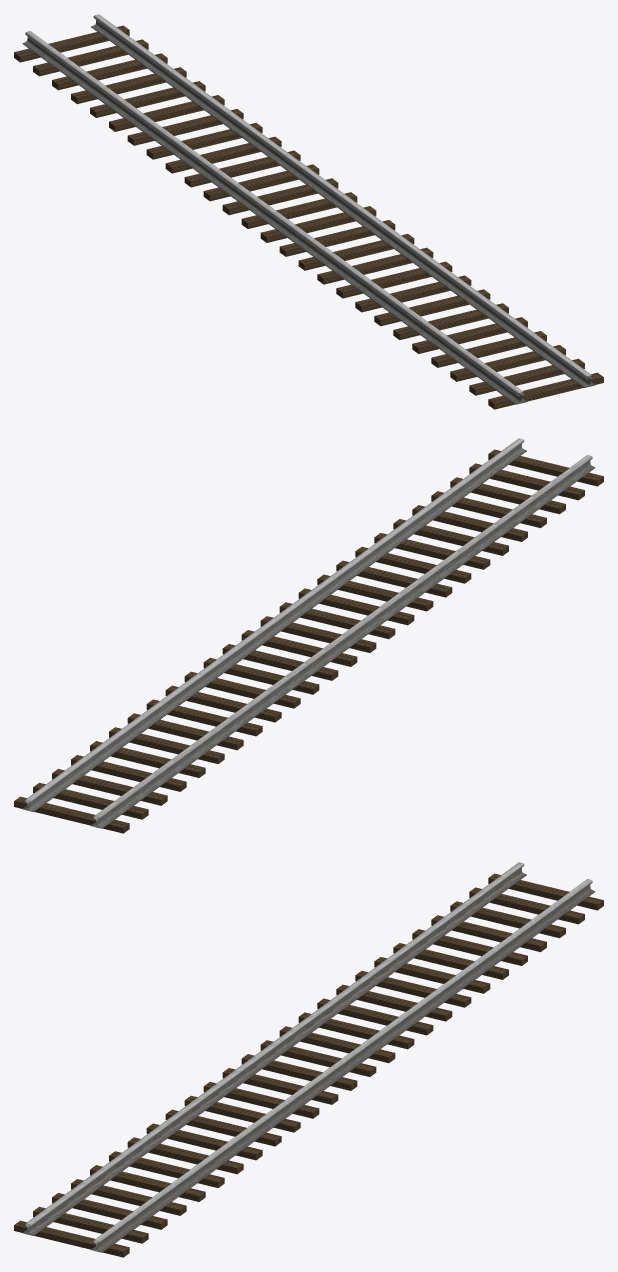
The model's file is smallstraighttextured.obj.
3 views of the same model, one above another, from view 1: azimuth 30°, elevation 25°; view 2: azimuth 150°, elevation 25°; view 3: azimuth 330°, elevation 25° (orthographic).
Visible parts, largest first — view 1: TrackPiece_Cube.001; view 2: TrackPiece_Cube.001; view 3: TrackPiece_Cube.001.
Boxes of the visible parts, x1,y1,x2,y2 form: TrackPiece_Cube.001: [14, 14, 603, 409]; TrackPiece_Cube.001: [14, 438, 603, 833]; TrackPiece_Cube.001: [14, 862, 603, 1257].
Bounding box in the file's own units: 8 × 1.18 × 62.4.
3 materials, 3 textured.
